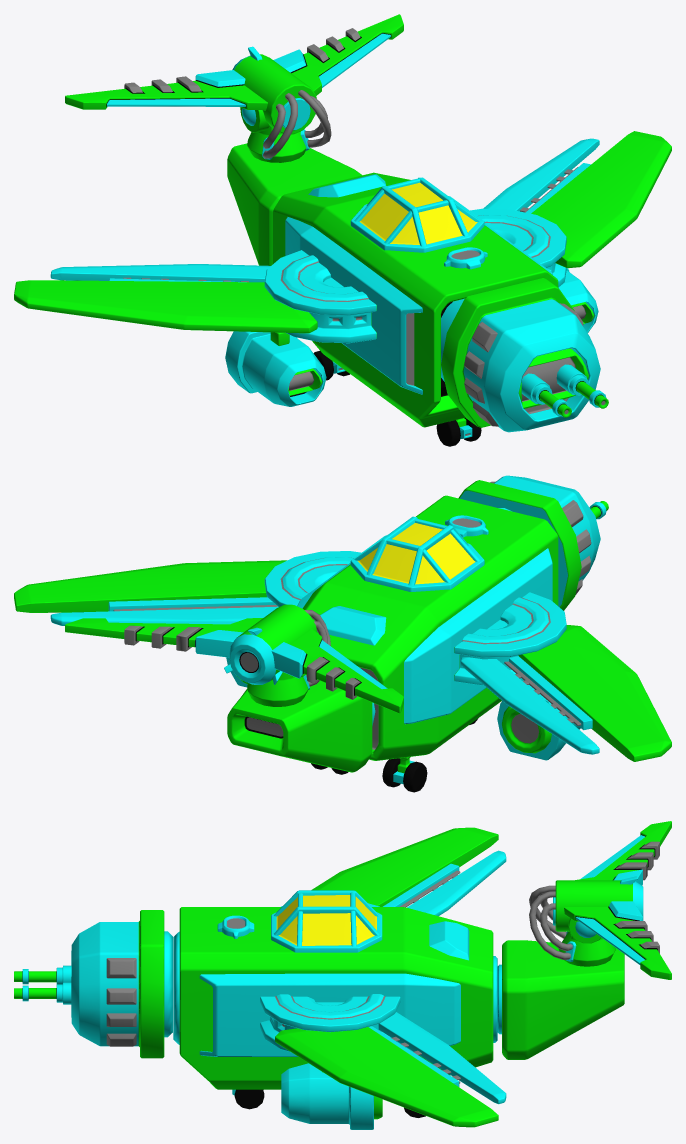
3 views of the same model, one above another, from view 1: azimuth 30°, elevation 25°; view 2: azimuth 150°, elevation 25°; view 3: azimuth 270°, elevation 25° (orthographic). The views are drawn at different scales.
Parts seen in each view (by area): view 1: Body17_A, Fin17, Wing17_R, Propeller17, Wing17_L, Spurt17_R, Spurt17_L, Body17_B; view 2: Body17_A, Fin17, Wing17_R, Wing17_L, Propeller17, Spurt17_R, Body17_C; view 3: Body17_A, Fin17, Wing17_L, Propeller17, Wing17_R, Spurt17_L, Body17_B.
Part boxes in pixels (x1,y1,x2,y2): Body17_A: (273,172,558,427); Fin17: (65,14,403,265); Wing17_R: (14,250,376,343); Propeller17: (441,278,608,432); Wing17_L: (470,131,671,287); Spurt17_R: (225,331,326,406); Spurt17_L: (558,268,598,332); Body17_B: (436,417,481,446); Body17_A: (297,495,558,760); Fin17: (65,604,403,772); Wing17_R: (454,592,671,761); Wing17_L: (14,551,361,625); Propeller17: (458,475,608,610); Spurt17_R: (497,685,580,760); Body17_C: (382,757,427,792); Body17_A: (173,890,497,1089); Fin17: (497,821,671,1059); Wing17_L: (260,994,506,1127); Propeller17: (14,910,172,1058); Wing17_R: (281,827,506,915); Spurt17_L: (281,1063,382,1129); Body17_B: (232,1089,264,1109).
Bounding box in the file's own units: 20.11 × 7.2 × 19.
